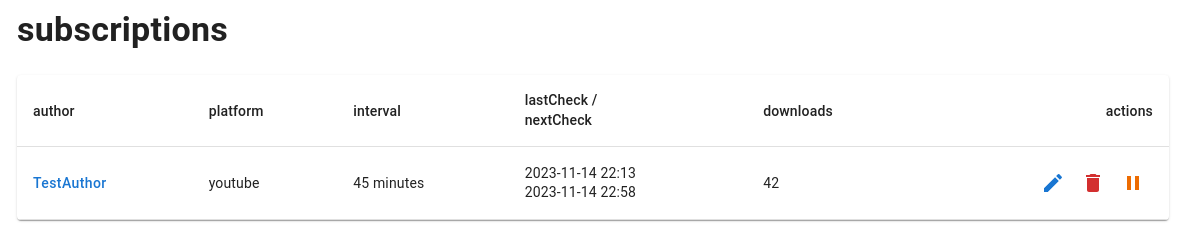
Test: SubscriptionsPage › cancels subscription interval editing with Escape
Click the button titled "editInterval" at (1053, 183), box x1=1033 y1=163 x2=1073 y2=203
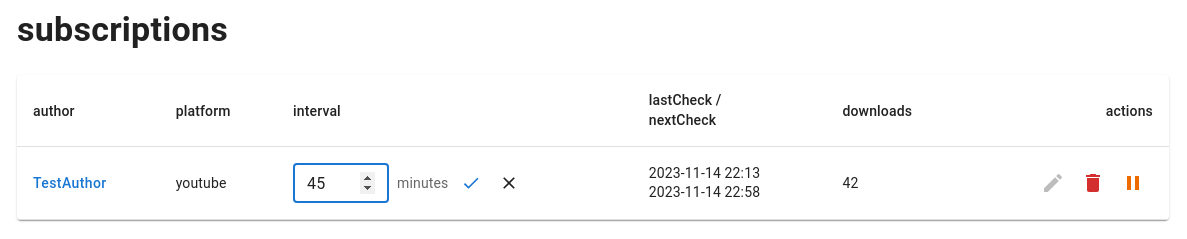
Press Escape in the number field named "checkIntervalMinutes", box x1=293 y1=163 x2=389 y2=203
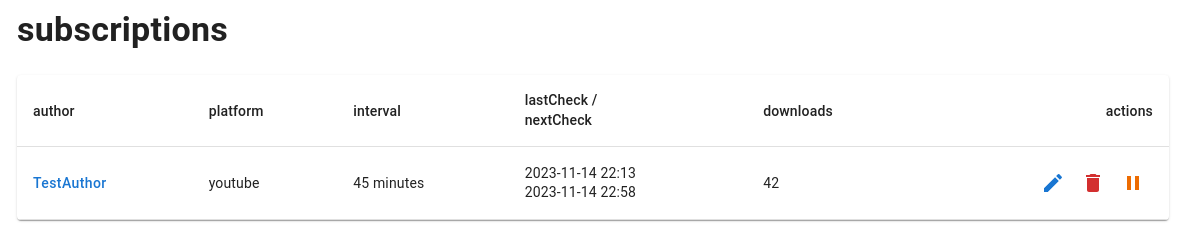
Check: the number field labelled "checkIntervalMinutes" is gone
Check: the text "45 minutes" is shown, box x1=337 y1=147 x2=509 y2=220
